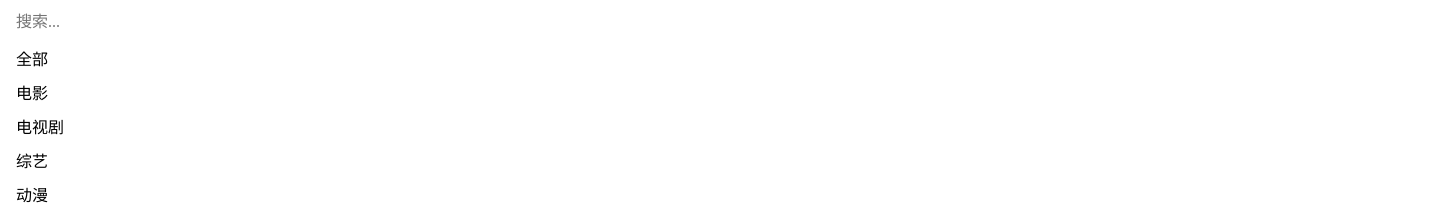
Scenario: DataTableEnumFilter — 单选模式 › search 无匹配 → 显示"无匹配选项"
Type "xxxxxx" into the search field with test id "ef-search".
click(720, 22); type("xxxxxx")  # box [8, 8, 1432, 36]
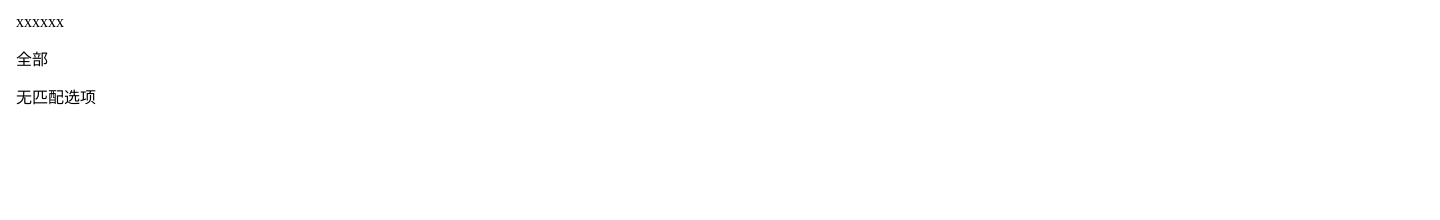
Expected: the text "无匹配选项" is shown, [16, 89, 96, 106]
